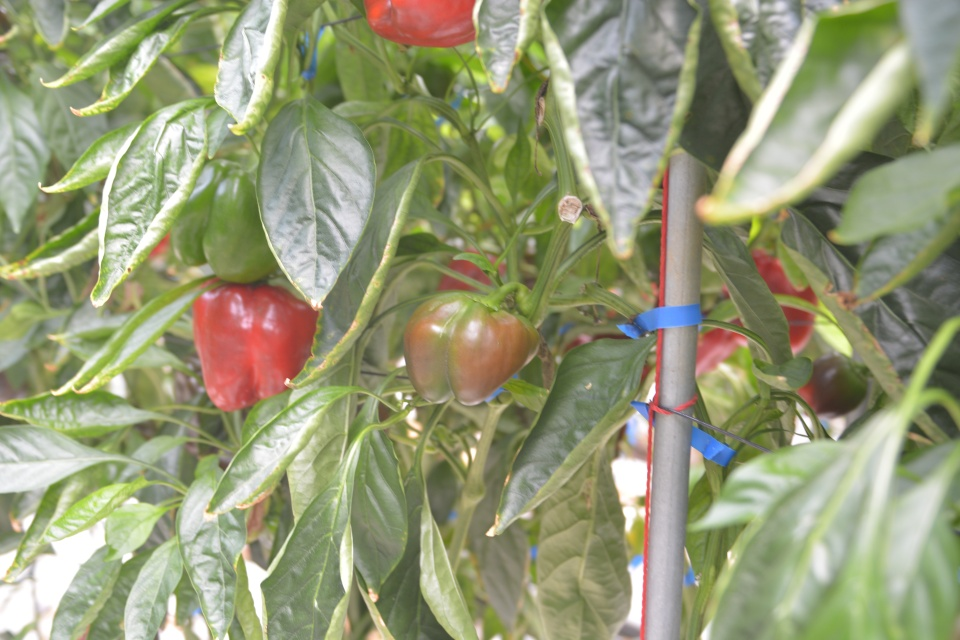fruit: (403, 288, 545, 415), (191, 278, 320, 412), (695, 249, 818, 377), (168, 157, 279, 284), (361, 0, 480, 50), (794, 352, 869, 418)
pedicle: (465, 292, 502, 309), (851, 361, 869, 381)
